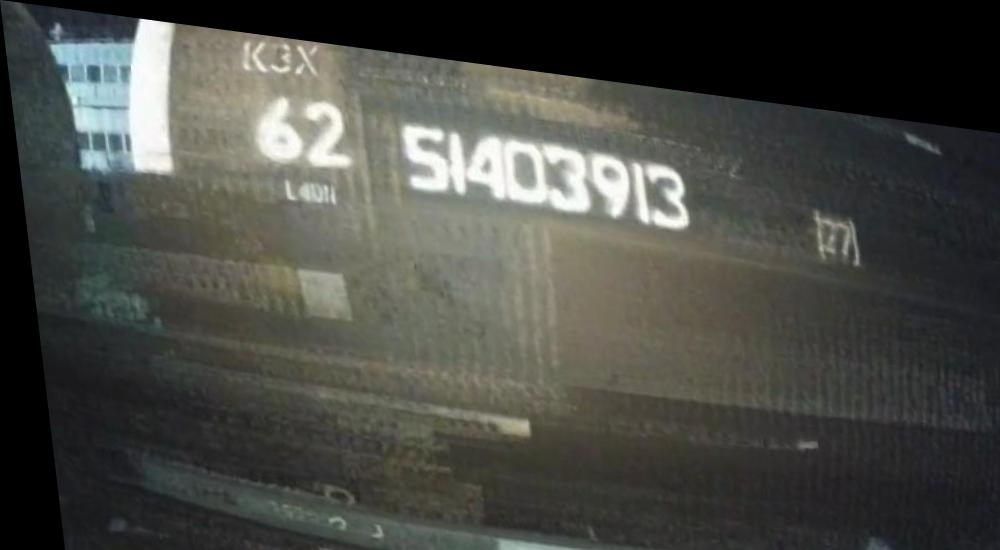Wagon-number: (391, 105, 693, 223)
